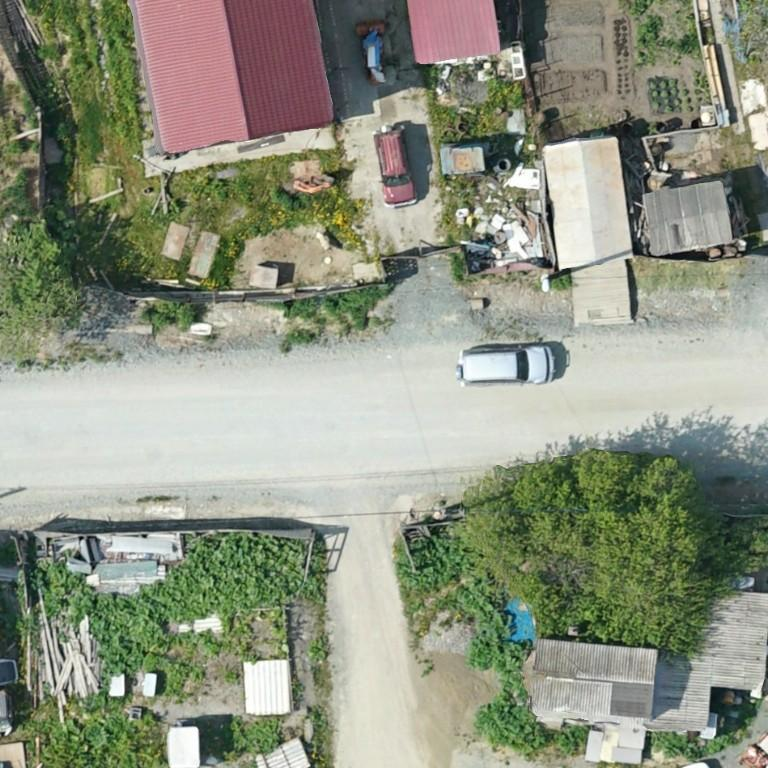hogweed: (34, 533, 308, 675), (456, 584, 545, 754), (396, 537, 466, 589), (302, 541, 324, 600), (651, 733, 693, 759), (554, 728, 586, 753), (308, 639, 325, 659)
